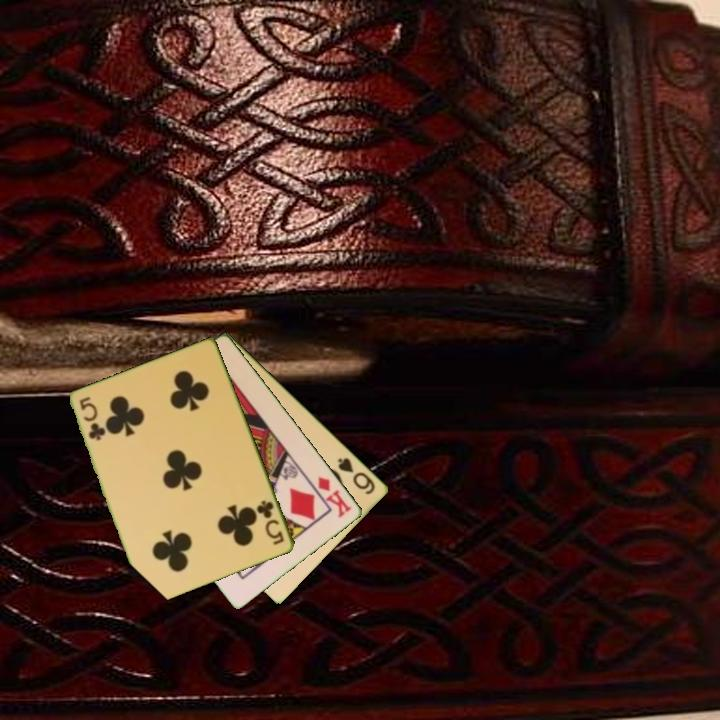5c: (253, 497, 287, 548), (76, 393, 107, 444)
6s: (334, 454, 379, 497)
Kd: (315, 473, 355, 521)
